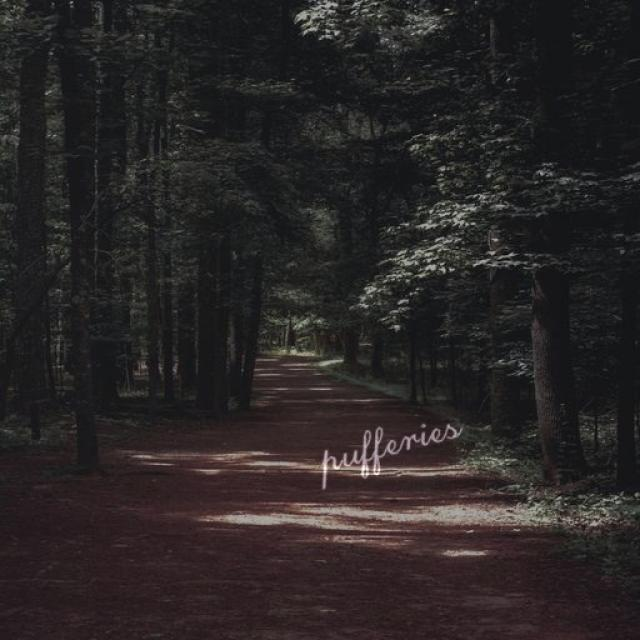watermark: (314, 402, 462, 479)
